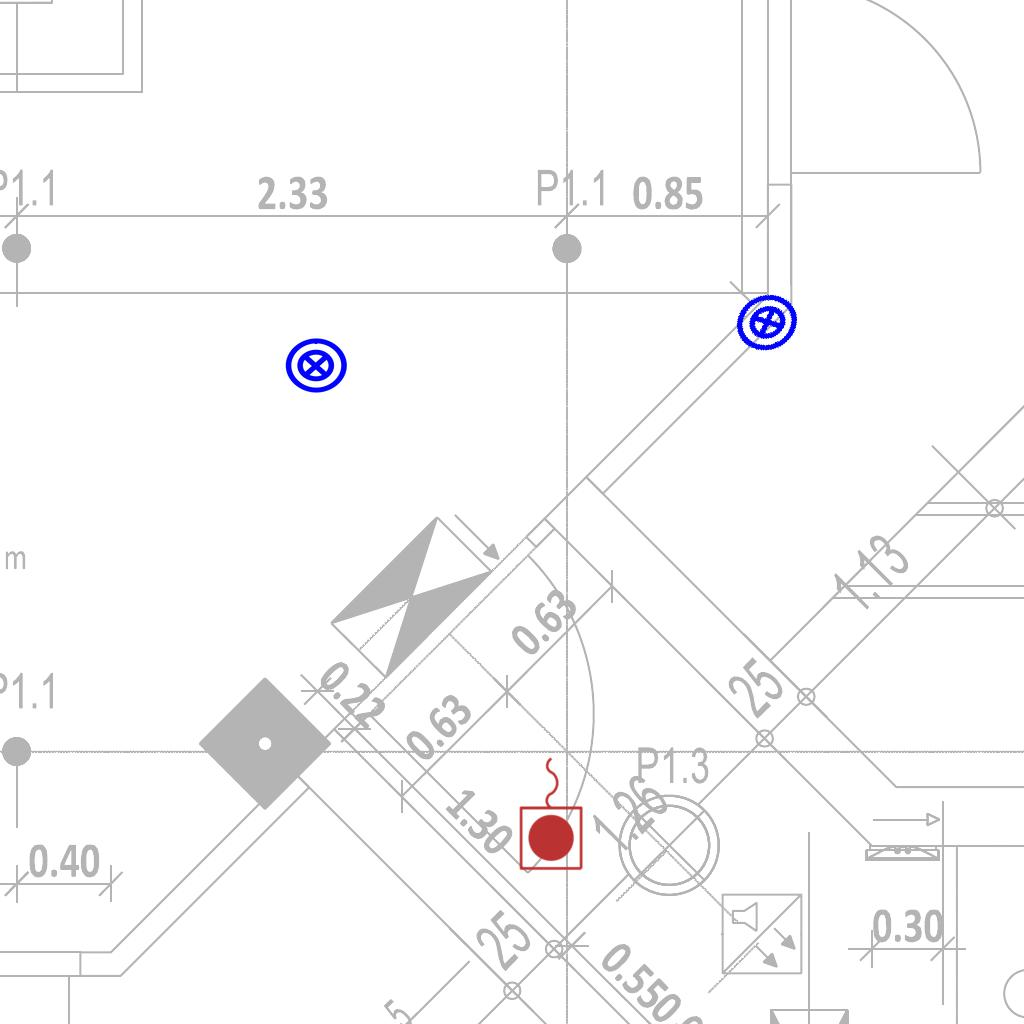Taster_beleuchtet: (723, 278, 811, 366), (283, 333, 349, 399)
Zugtaster: (516, 752, 588, 874)
